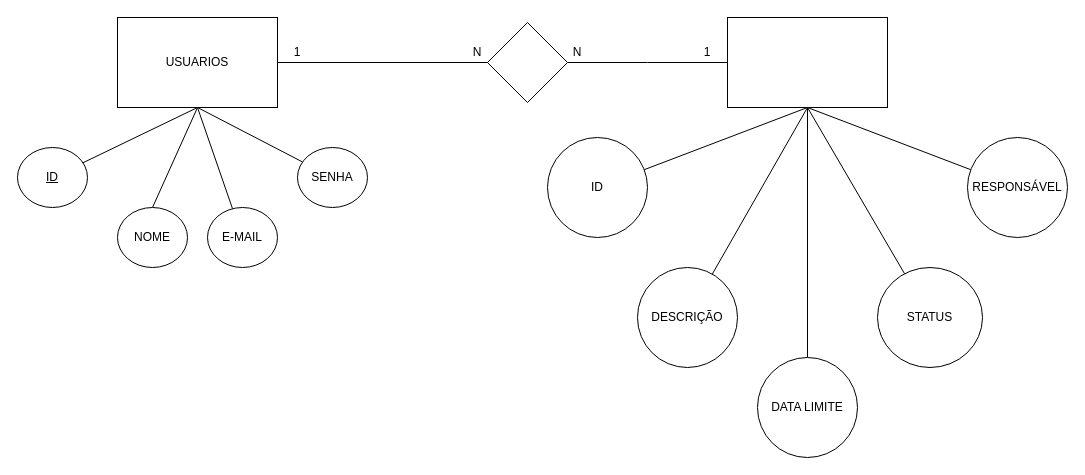
This 1085x475 diagram has some shape labels left out. The shapes that lost their labels are listed below. From the top down, each one's centre as x and y in pixels, then its label:
At (x=527, y=62): "POSSUI".
At (x=807, y=62): "Tarefas".
